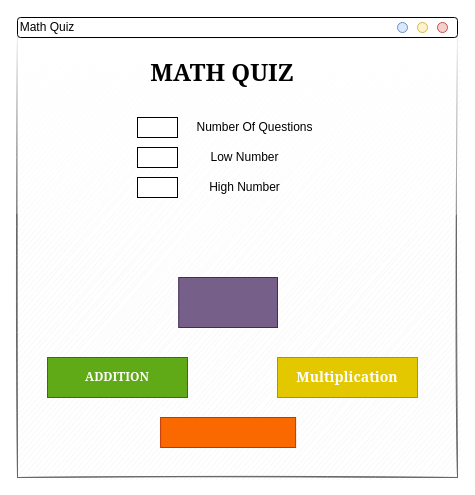
The diagram is 475 pixels wide and 495 high, and some of its shapes have lost their labels. Each missing label, with the box of its shape:
ENTER: (178, 276, 278, 328)
HOW TO PLAY: (160, 416, 296, 448)
